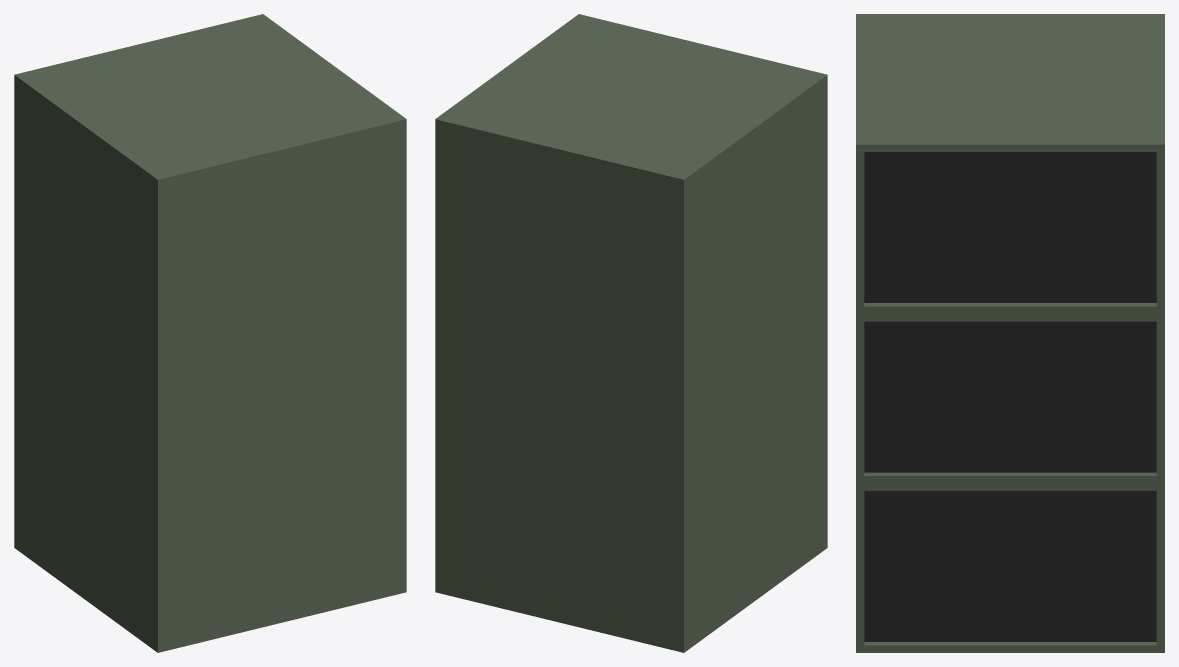
Rendered from Armario2.fbx.
3 renders of one model, left to right at view 1: azimuth 30°, elevation 25°; view 2: azimuth 150°, elevation 25°; view 3: azimuth 270°, elevation 25°, orthographic. The views are drawn at different scales.
Visible parts, largest first — view 1: Armario.001; view 2: Armario.001; view 3: Armario.001.
Boxes of the visible parts, <box> form: Armario.001: <box>14,14,406,652</box>; Armario.001: <box>435,14,827,652</box>; Armario.001: <box>856,14,1164,652</box>.
Size of the model in its own units: 200 by 363 by 200.
1 material, 1 textured.
